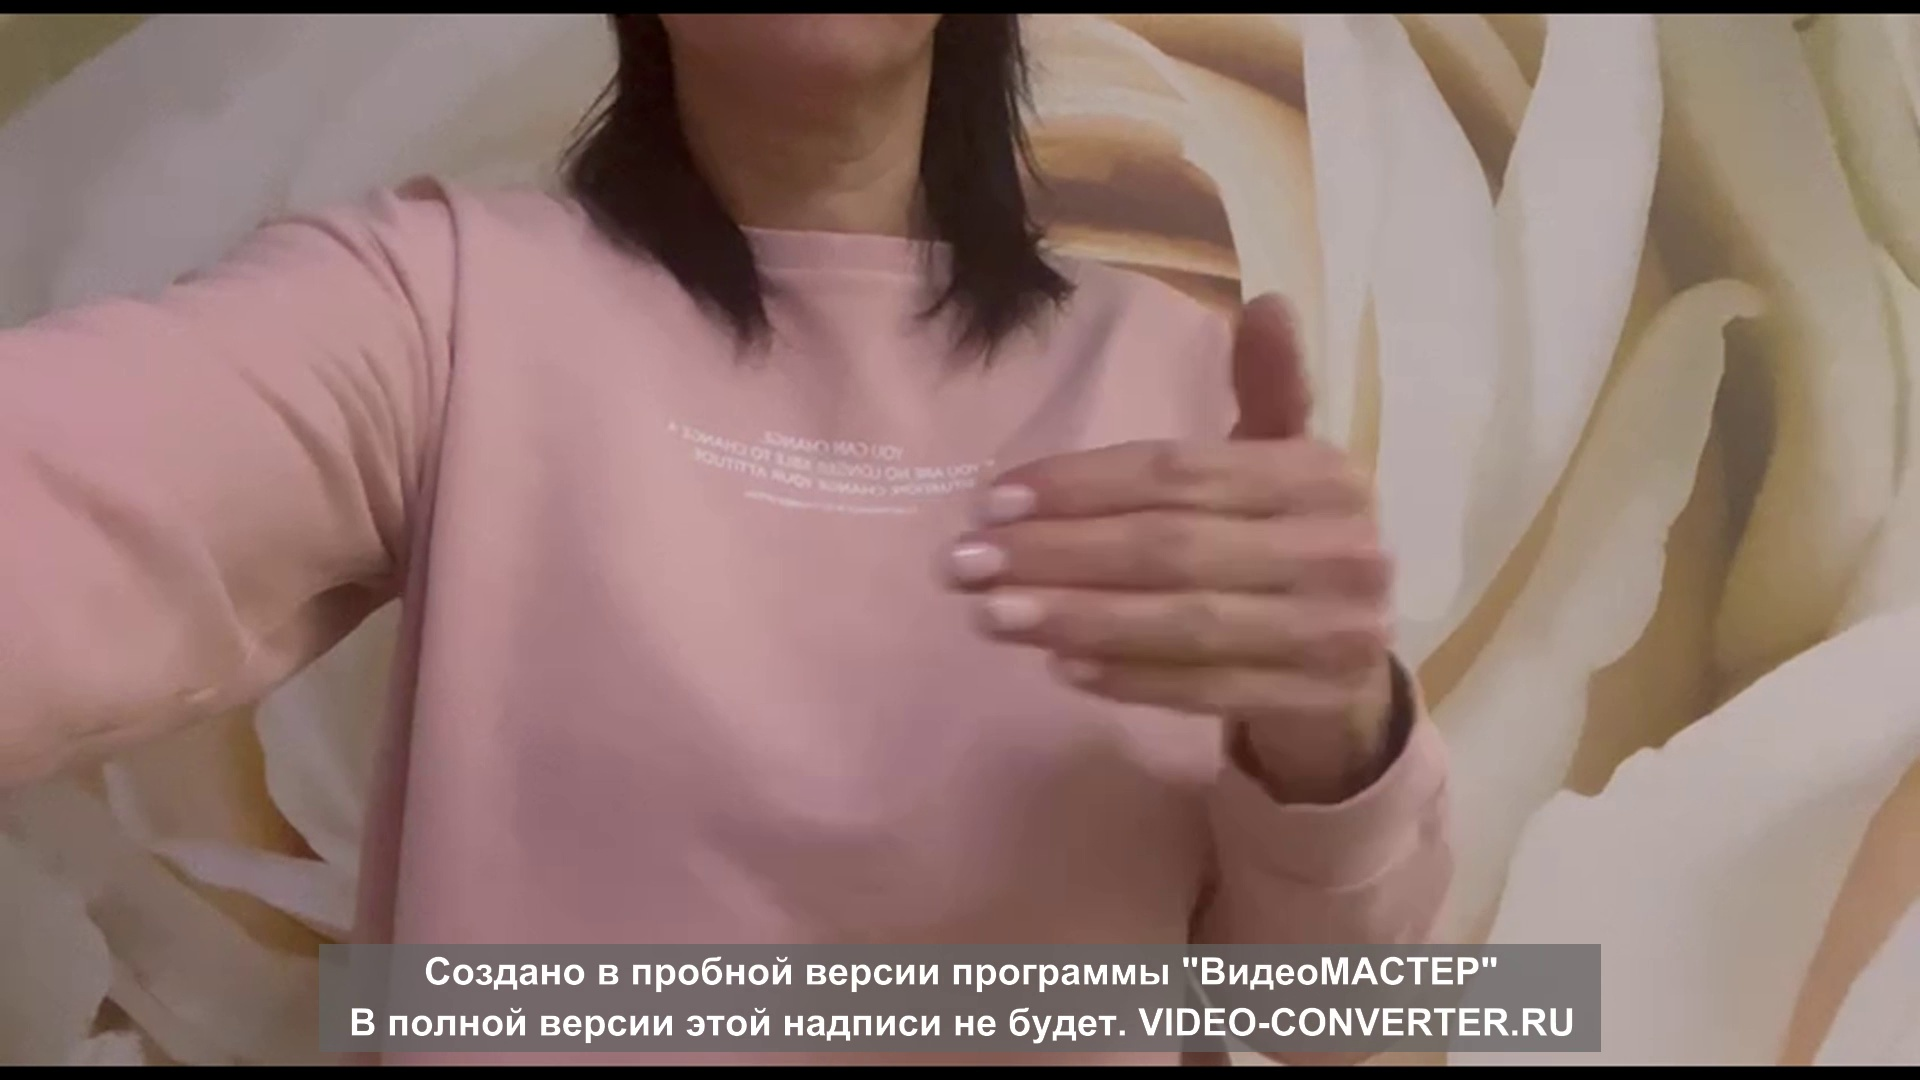Кисть: (932, 294, 1393, 724)
